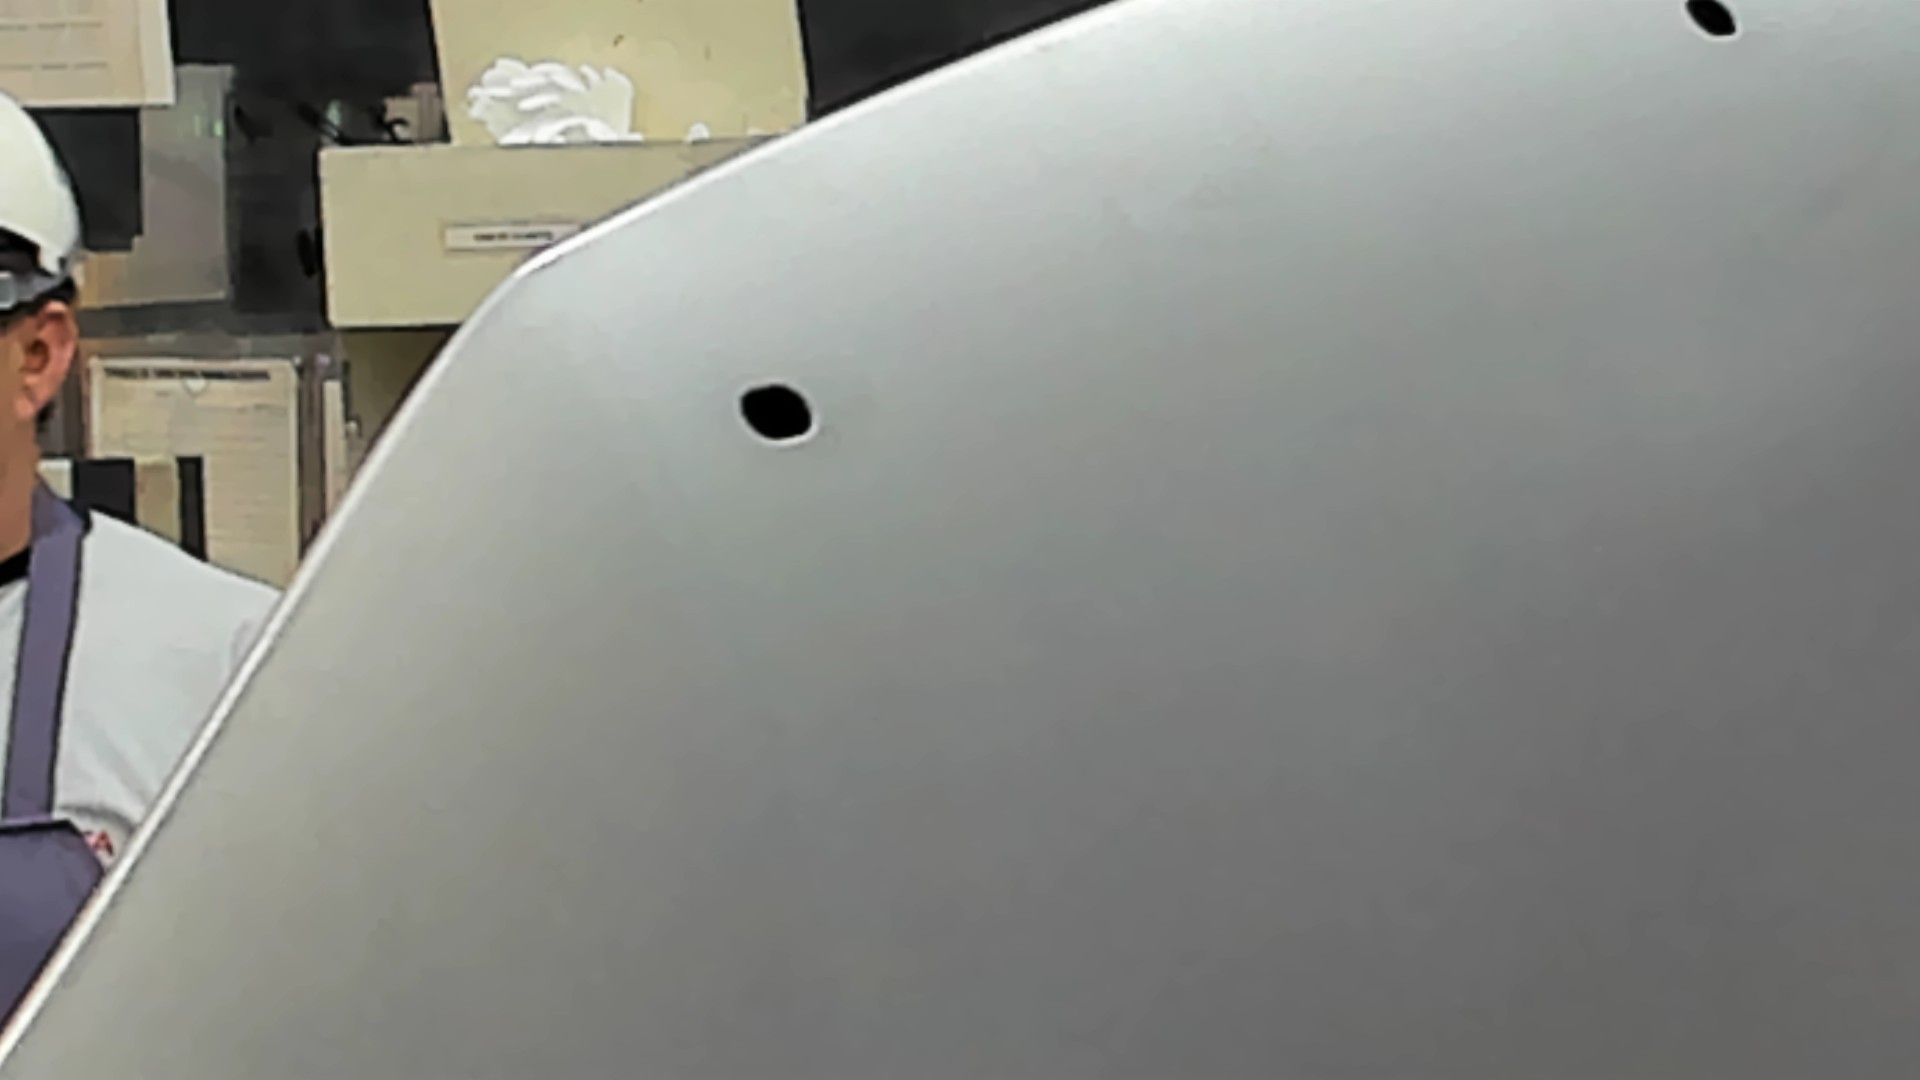Agujero: (732, 377, 822, 446), (1679, 1, 1742, 45)
